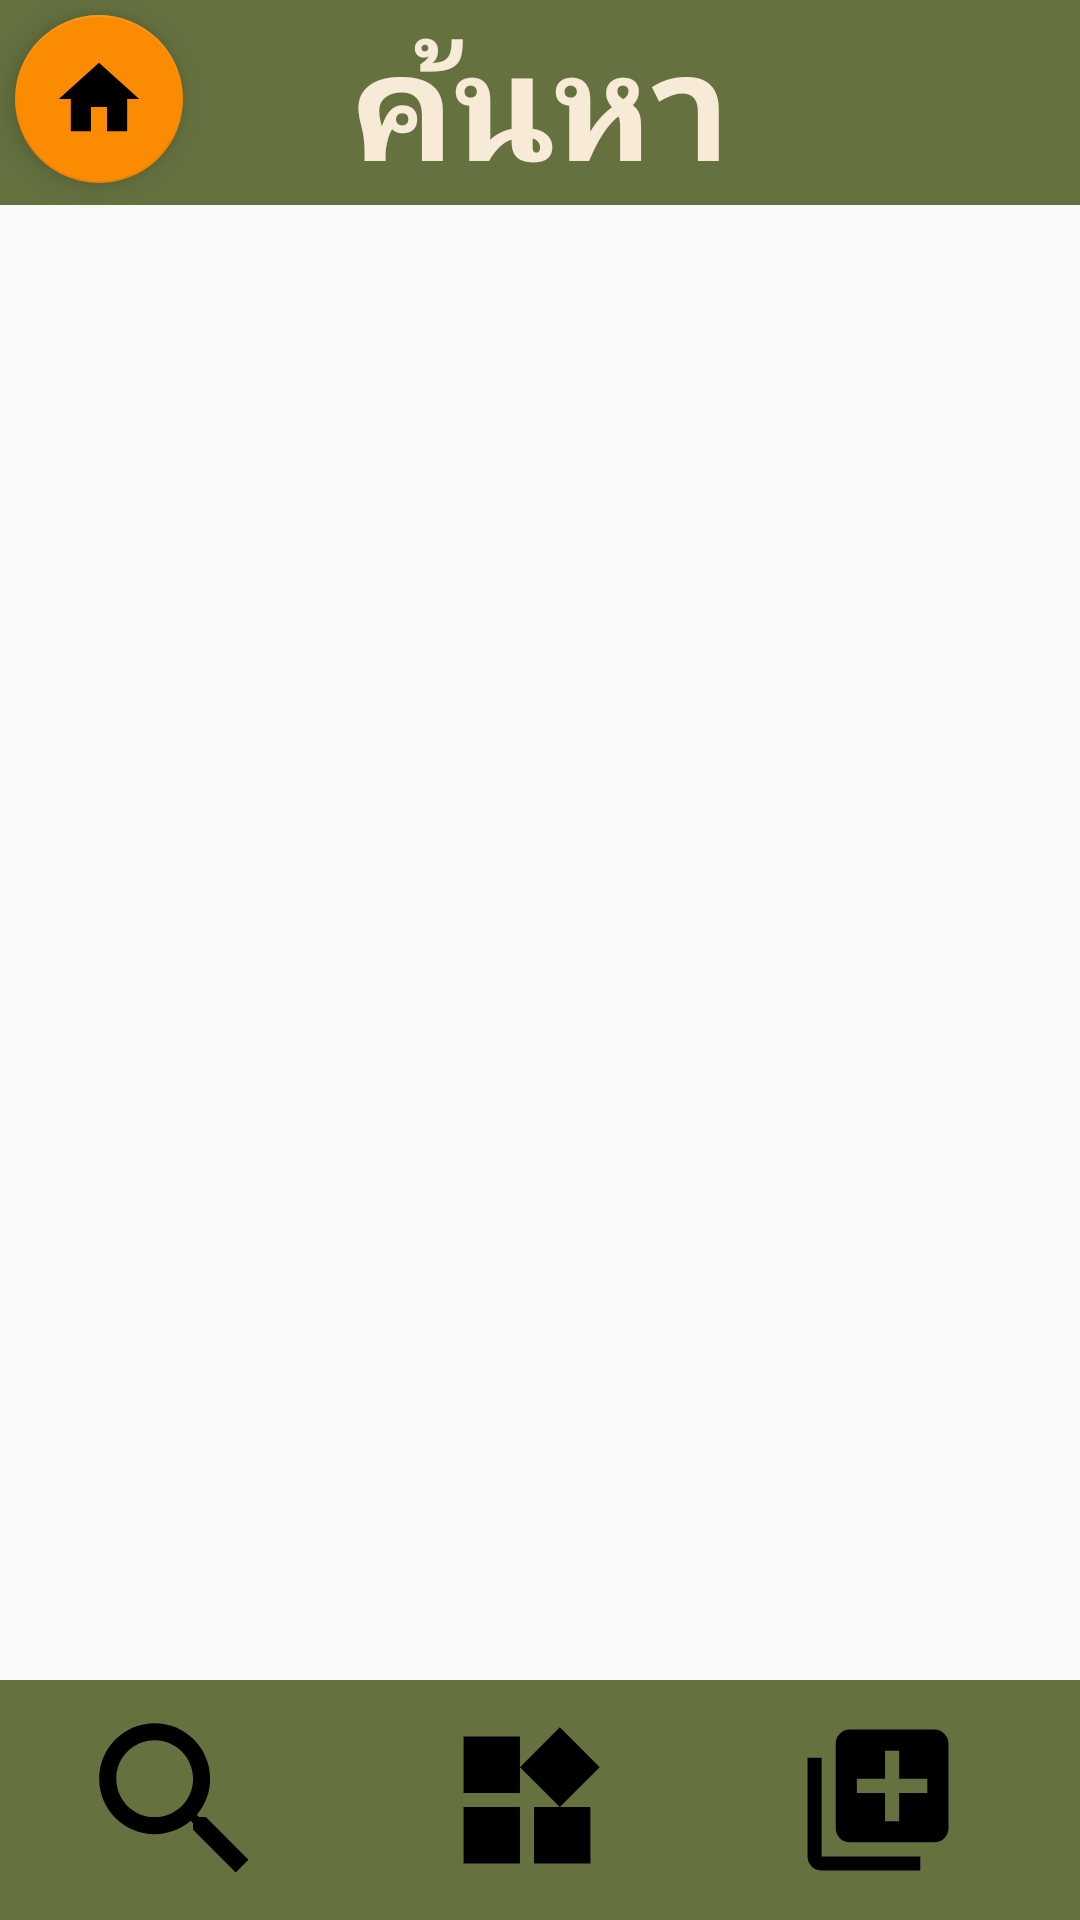

Locate icon controls on the screen. Image size 1080x1920, boxes as {"x1": x1, "y1": y1, "x2": x2, "y2": y2}.
add: {"x1": 807, "y1": 1729, "x2": 949, "y2": 1871}
home: {"x1": 15, "y1": 15, "x2": 183, "y2": 183}
product list: {"x1": 463, "y1": 1727, "x2": 600, "y2": 1864}
search list: {"x1": 99, "y1": 1723, "x2": 248, "y2": 1873}
